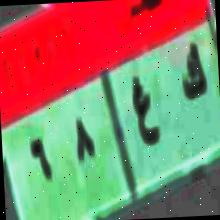6: (25, 128, 54, 188)
8: (73, 112, 95, 170)
ghayn: (130, 70, 160, 156)
kaaf: (174, 39, 210, 109)
